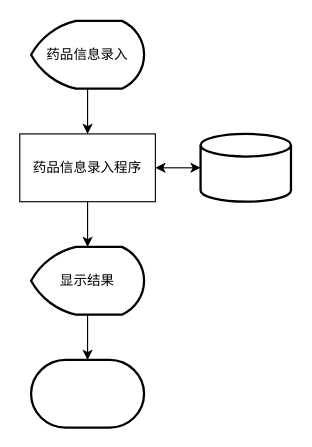
Some shapes in this 312 by 447 pixel diagram are drawn without their labels. Here are the shapes that lost their labels. From the top down, the centre of each, then its label:
At (x=245, y=167): "药品信息表".
At (x=87, y=393): "结束".
